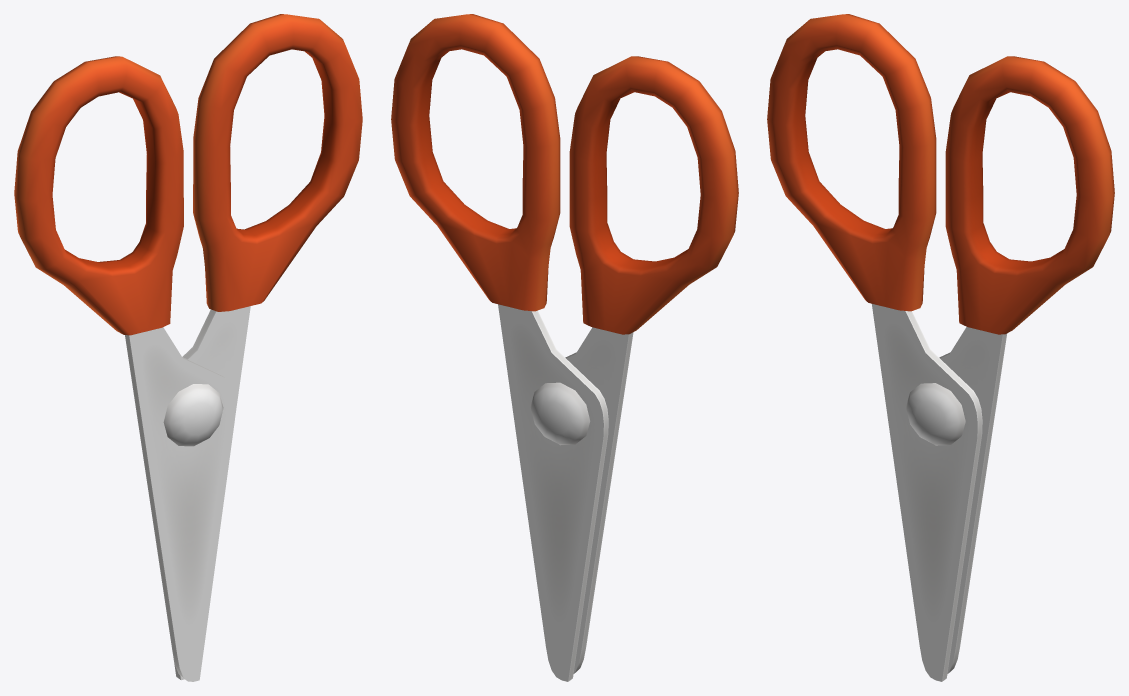
File: scissors.FBX
The picture shows the model from 3 angles, left to right: view 1: azimuth 30°, elevation 25°; view 2: azimuth 150°, elevation 25°; view 3: azimuth 330°, elevation 25°; orthographic projection.
Parts seen in each view (by area): view 1: scissors; view 2: scissors; view 3: scissors.
Part boxes in pixels (x1=…): scissors: x1=14, y1=14, x2=362, y2=681; scissors: x1=391, y1=14, x2=738, y2=681; scissors: x1=767, y1=14, x2=1114, y2=681.
Bounding box in the file's own units: 31.06 × 55.3 × 3.48.
